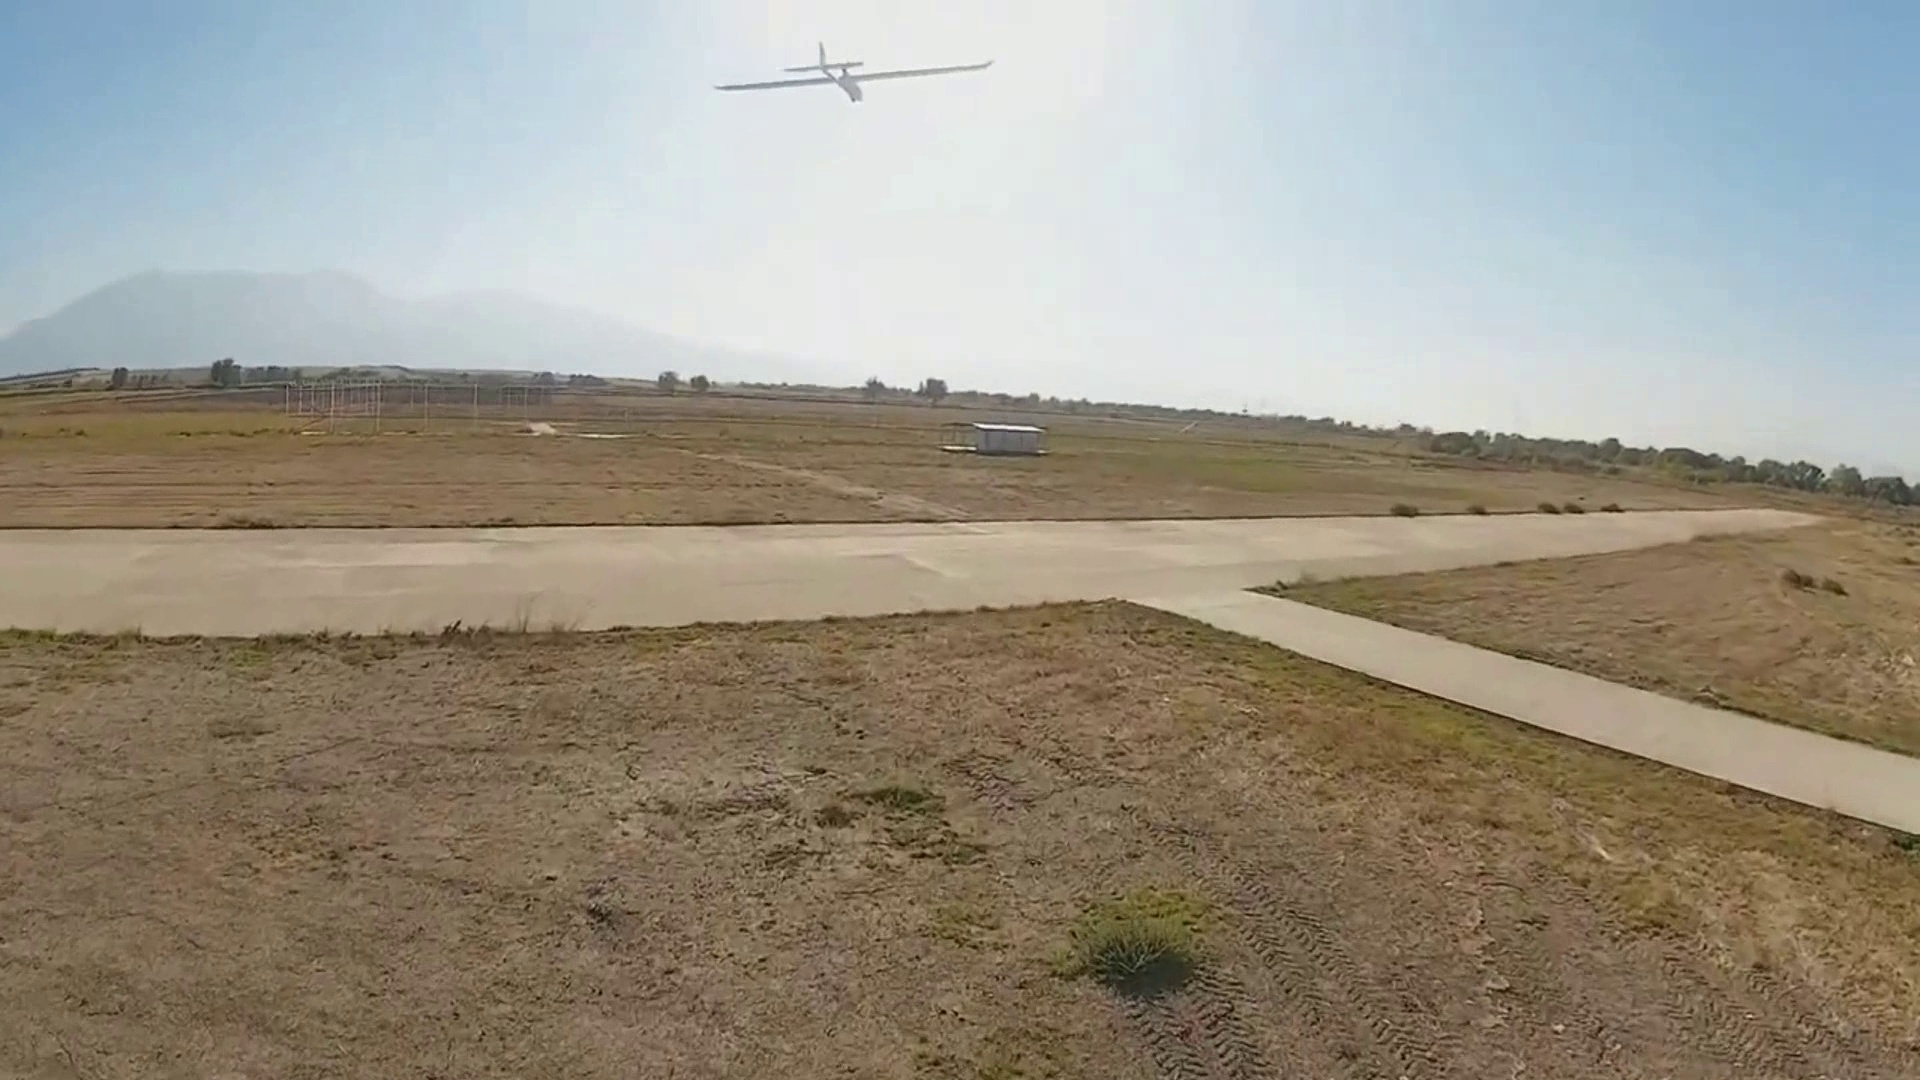airplane: (711, 42, 996, 104)
